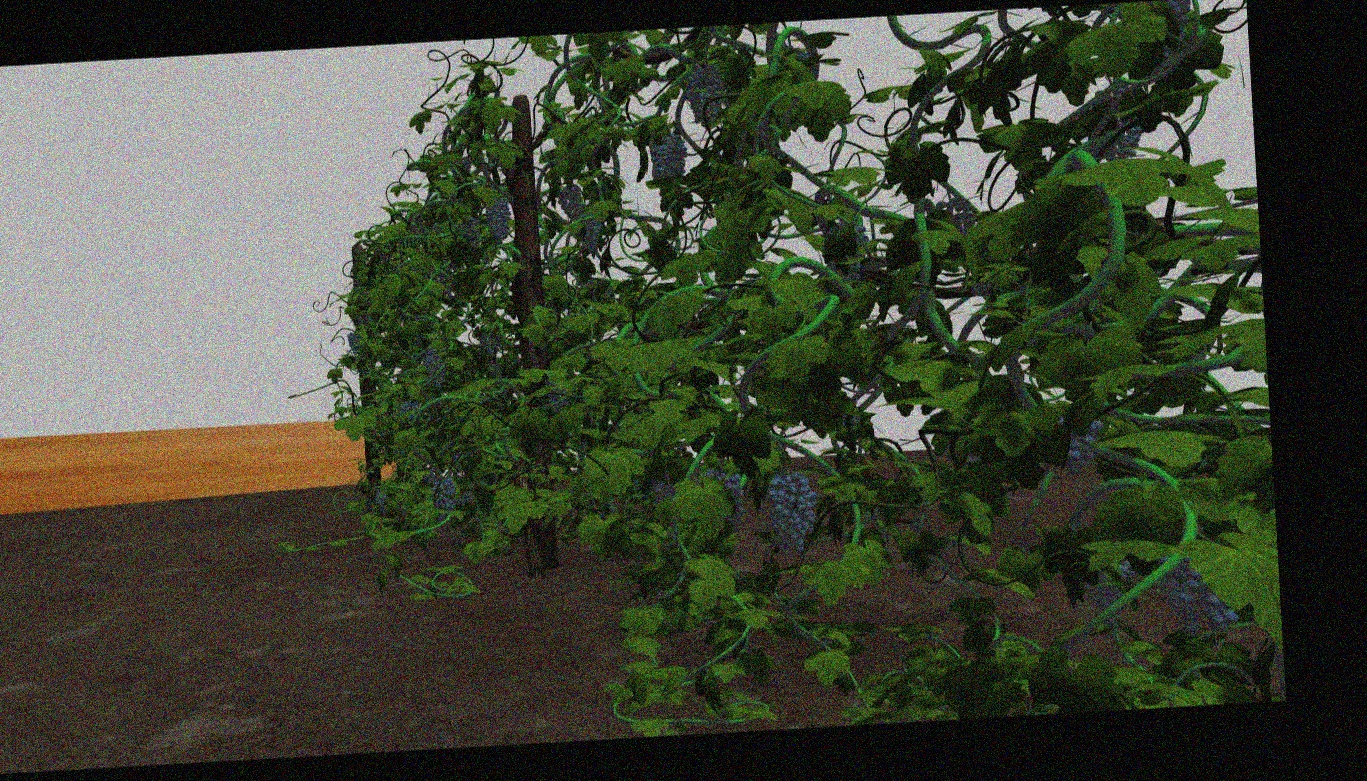grape: (1161, 552, 1239, 636), (766, 474, 819, 551), (684, 62, 728, 129), (1060, 415, 1104, 479), (647, 131, 687, 182), (485, 191, 511, 239), (432, 476, 456, 519), (422, 346, 446, 386), (580, 213, 605, 250), (555, 183, 581, 218), (400, 400, 419, 424), (373, 491, 387, 509), (346, 331, 361, 347)
